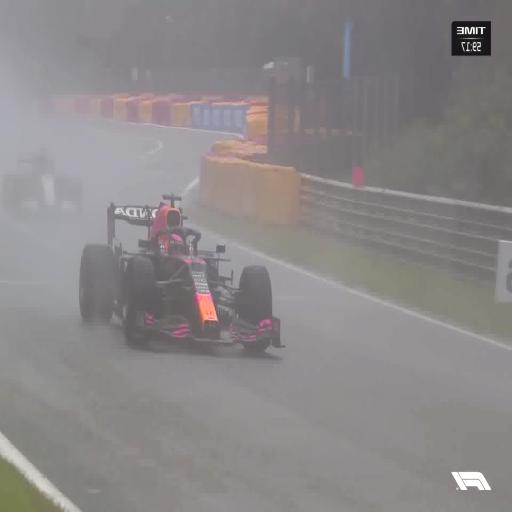f1_car: (80, 195, 283, 351), (2, 150, 83, 218)
